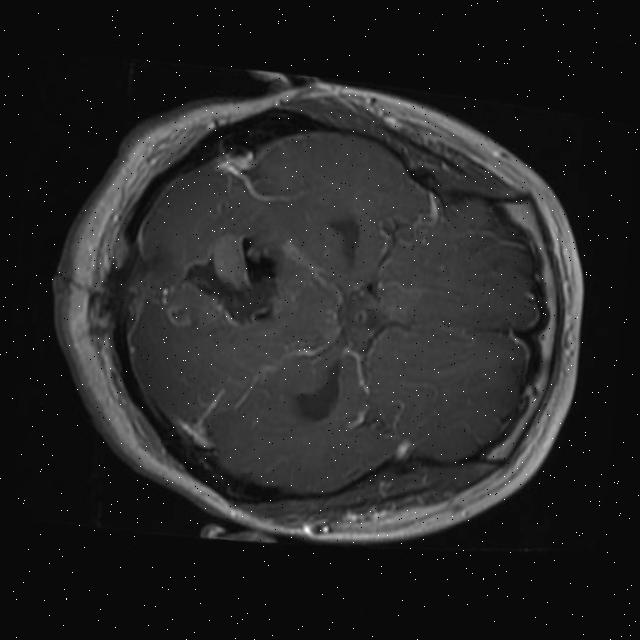Glioma: (169, 223, 288, 333), (162, 303, 191, 329)
